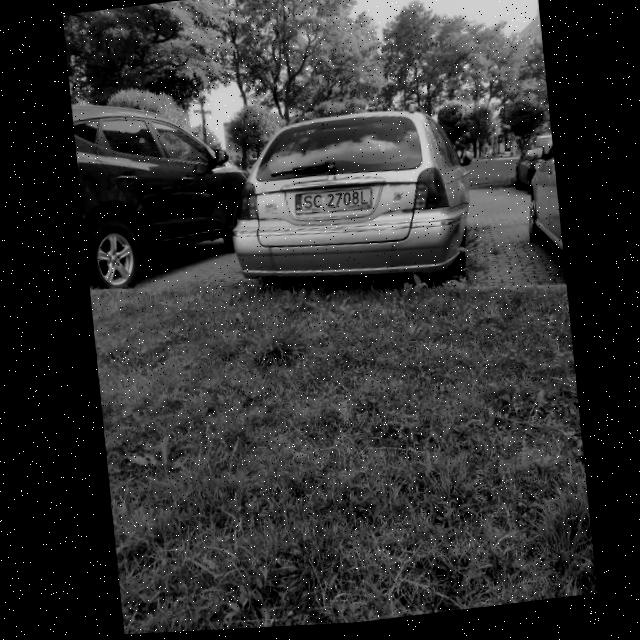license-plates: (295, 187, 372, 214)
